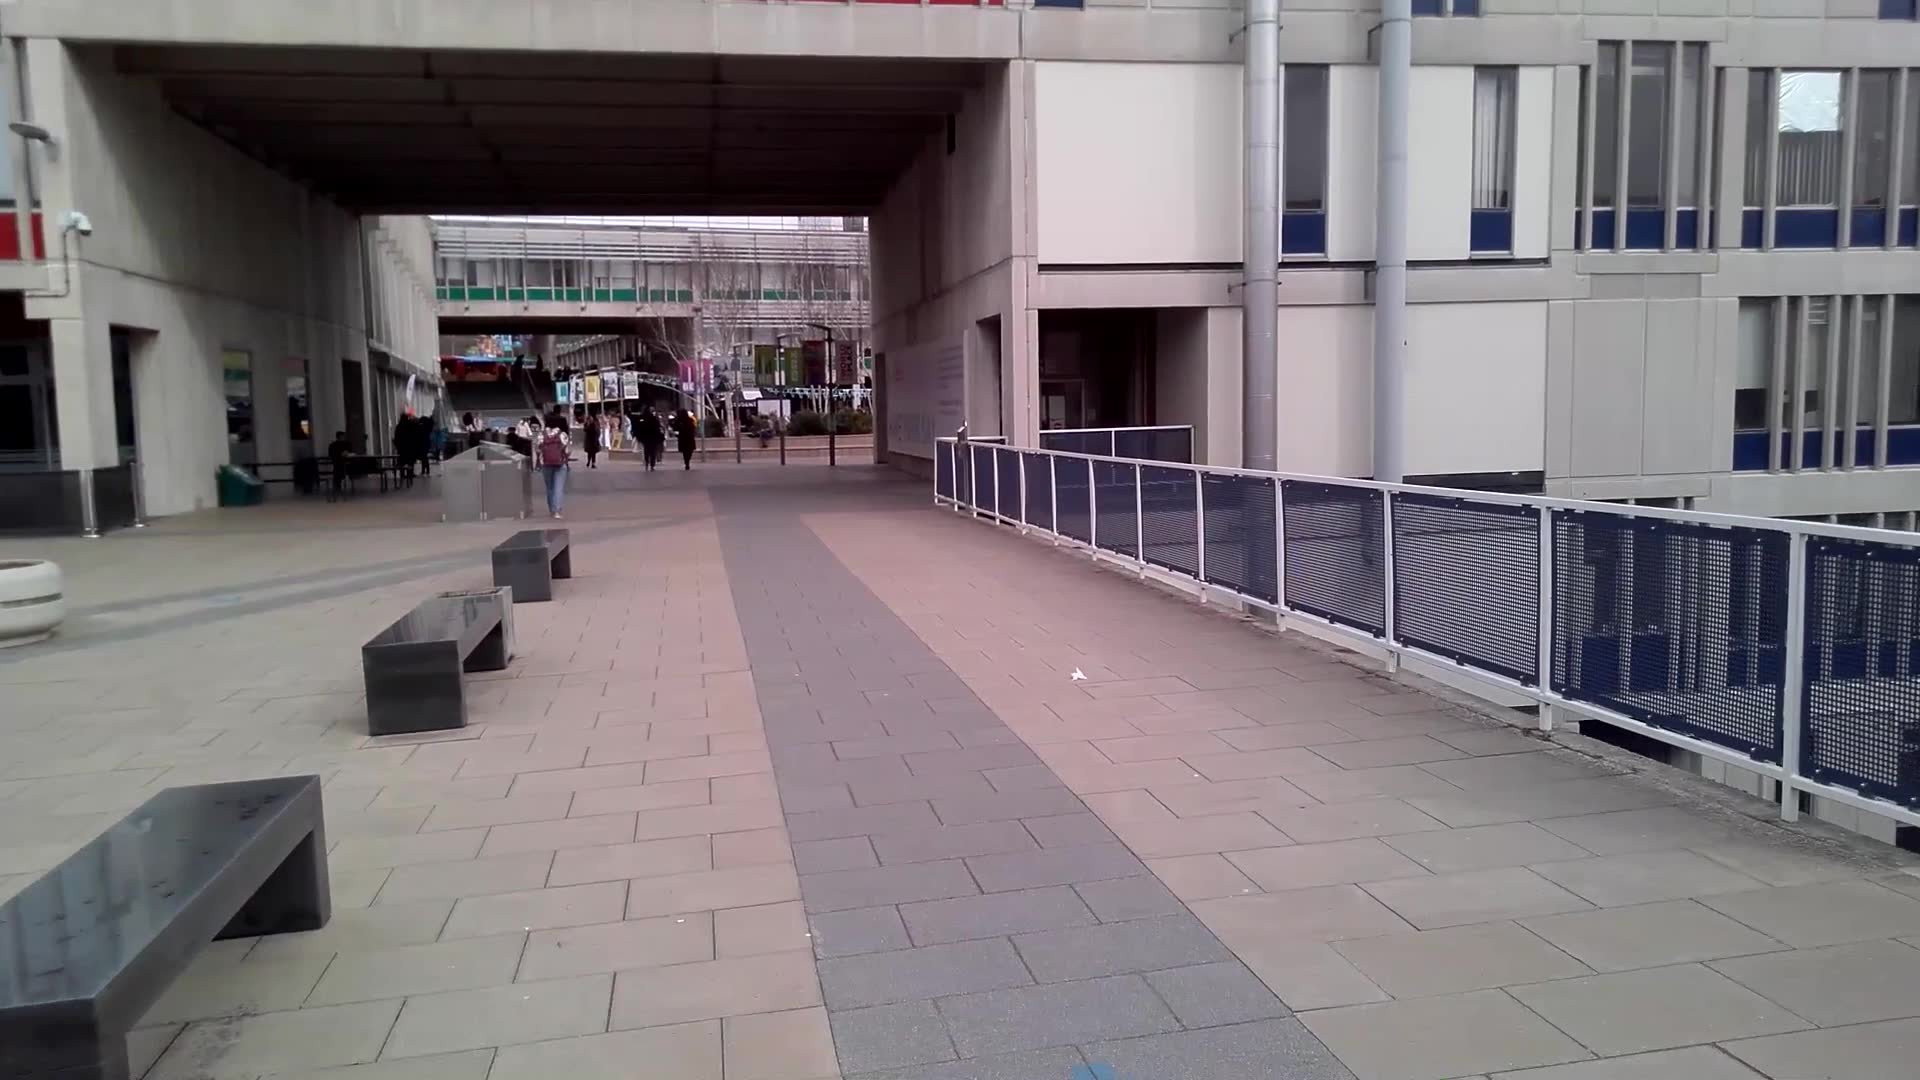Backpack: (537, 433, 570, 474)
Bench: (1, 763, 332, 1080), (369, 587, 518, 725), (496, 527, 573, 603)
Person: (538, 410, 580, 515)
